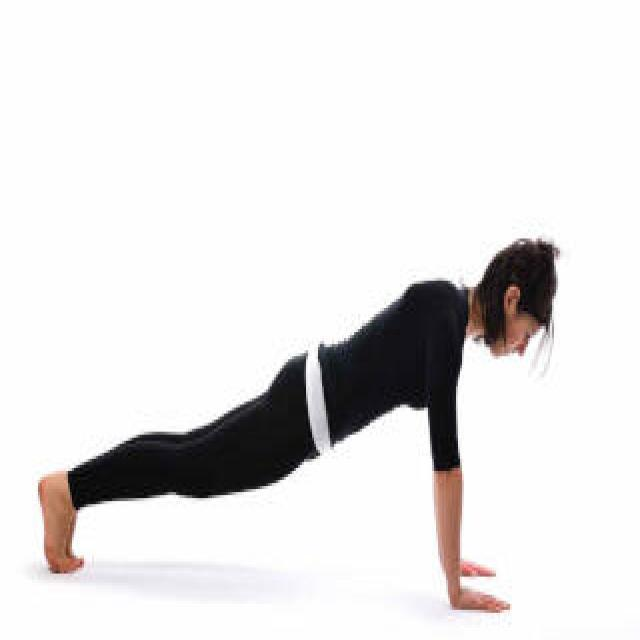yoga-pose plank: (39, 228, 558, 610)
